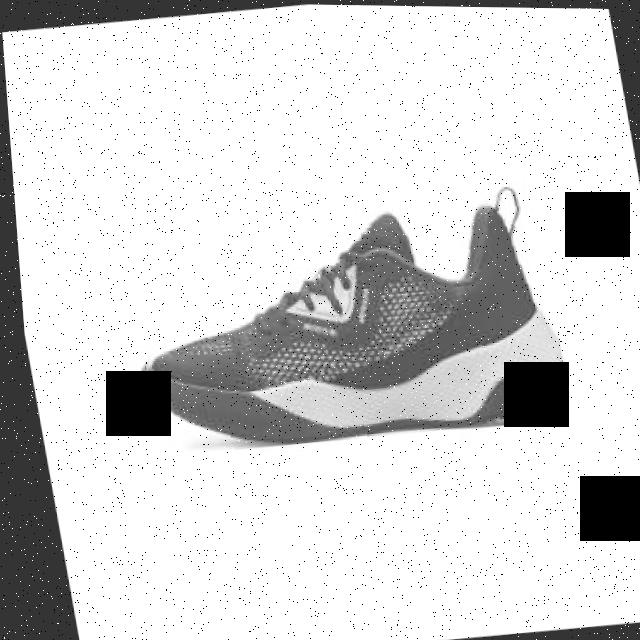shoe: (108, 185, 569, 461)
